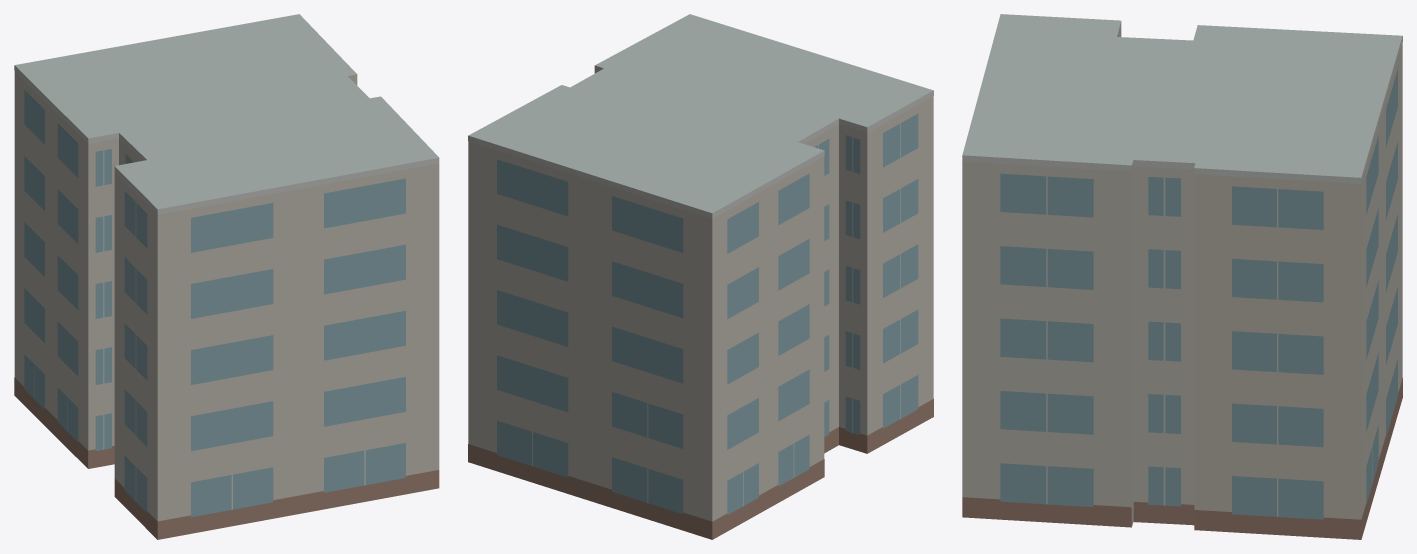
The model's file is survey-upis-32777614.glb.
3 renders of one model, left to right at view 1: azimuth 30°, elevation 25°; view 2: azimuth 150°, elevation 25°; view 3: azimuth 270°, elevation 25°, orthographic. The views are drawn at different scales.
Parts seen in each view (by area): view 1: survey-upis-32777614.tmp; view 2: survey-upis-32777614.tmp; view 3: survey-upis-32777614.tmp.
Boxes of the visible parts, box(x1,y1,x2,y2) form: survey-upis-32777614.tmp: box(14, 14, 439, 539); survey-upis-32777614.tmp: box(468, 14, 933, 539); survey-upis-32777614.tmp: box(962, 14, 1402, 539).
Bounding box in the file's own units: 14.02 × 14.44 × 15.93.
